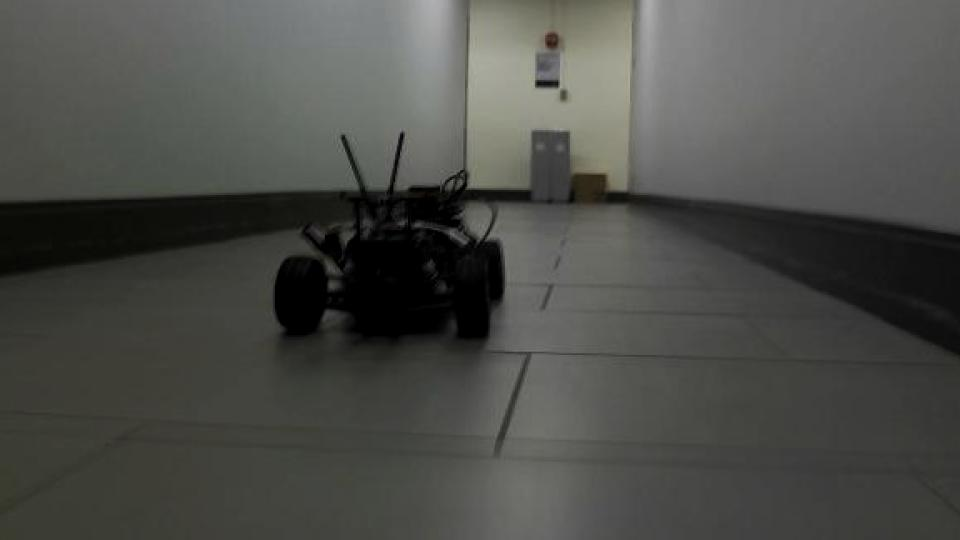car: (272, 128, 510, 342)
